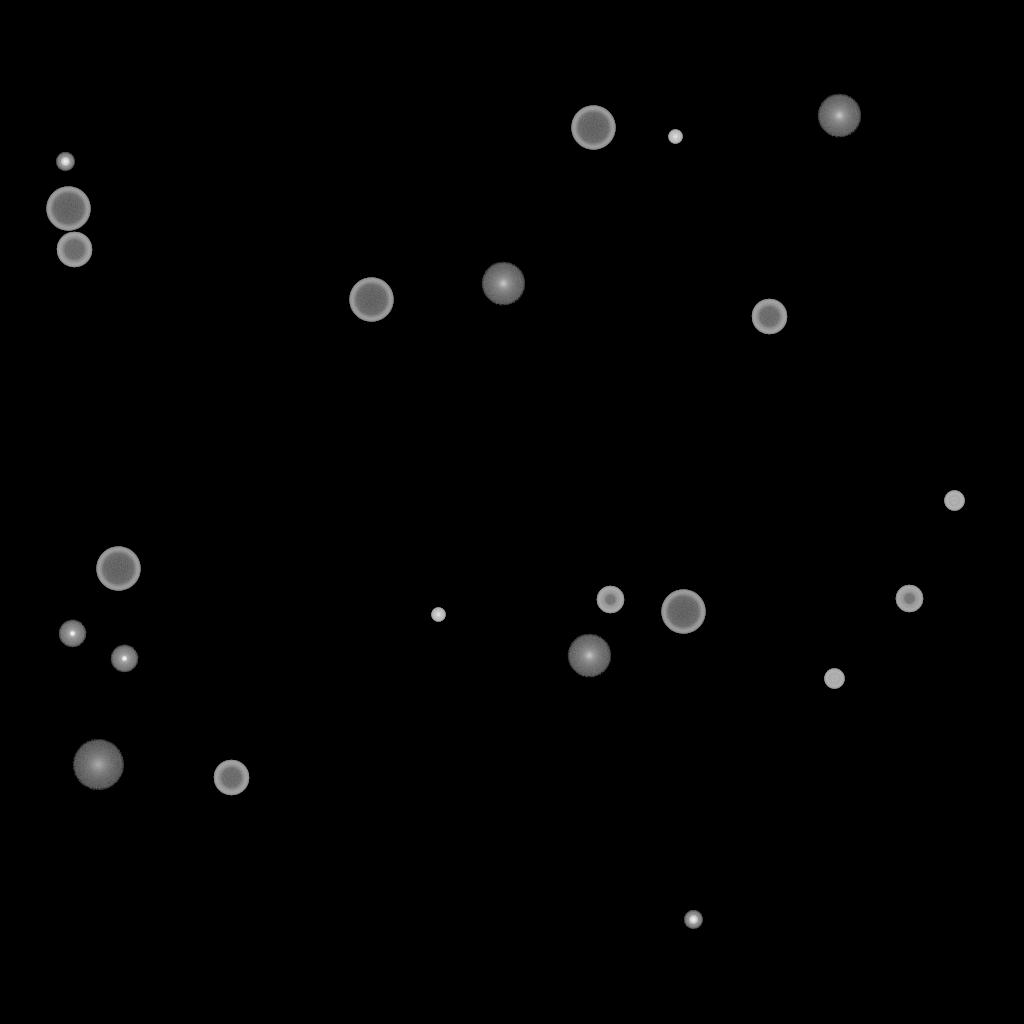depth:-10: (58, 620, 86, 648), (110, 645, 138, 673)
depth:-20: (684, 911, 702, 929), (56, 153, 74, 171)
depth:-30: (431, 608, 445, 622), (668, 130, 682, 144)
depth:-40: (824, 669, 844, 689), (944, 491, 964, 511)
depth:-50: (895, 585, 923, 613), (596, 586, 624, 614)
depth:-60: (56, 232, 92, 268), (213, 760, 249, 796), (751, 299, 787, 335)
depth:-70: (571, 106, 615, 150), (46, 187, 90, 231), (349, 278, 393, 322), (96, 547, 140, 591), (661, 590, 705, 634)
depth:10: (567, 634, 611, 678), (481, 262, 525, 306), (817, 94, 861, 138)
depth:20: (72, 740, 124, 790)
